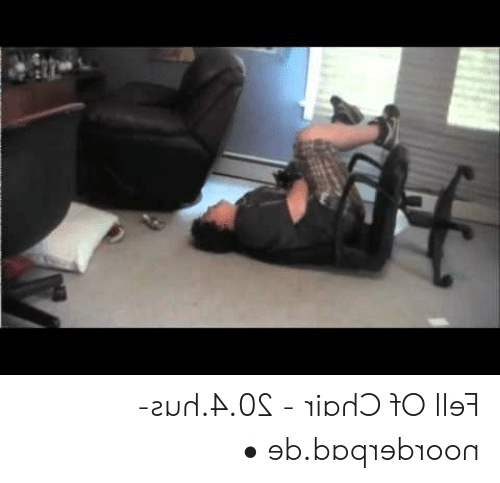fall: (180, 88, 408, 274)
